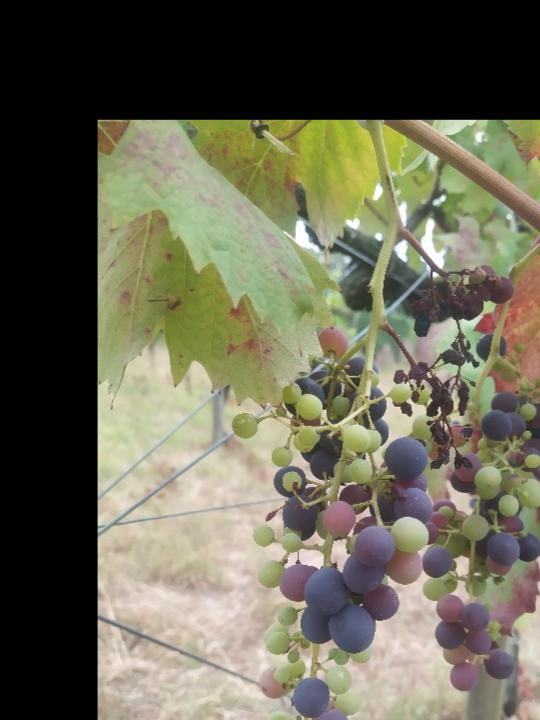grape: (227, 328, 474, 720), (410, 265, 516, 415)
